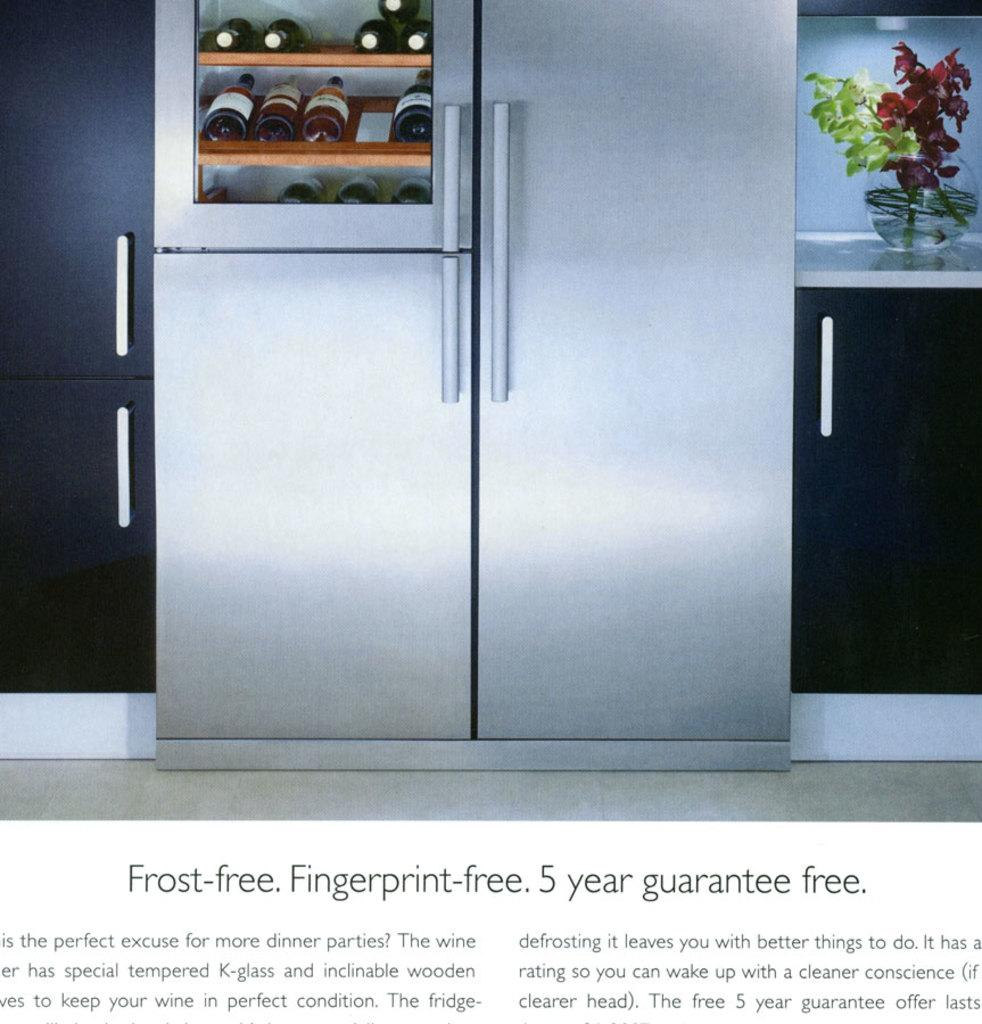cabinet_door: (799, 288, 982, 678), (4, 46, 153, 376), (7, 380, 155, 688)
handle: (492, 92, 517, 394), (108, 224, 141, 368), (438, 108, 469, 249), (437, 253, 462, 408), (108, 402, 136, 532), (818, 308, 836, 434)
